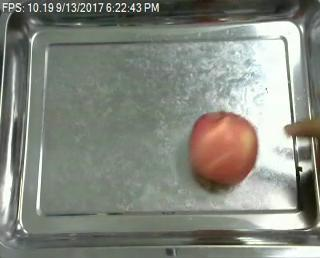apple: (190, 110, 258, 186)
